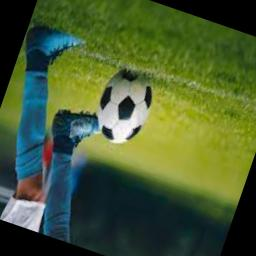football: (86, 62, 160, 150)
